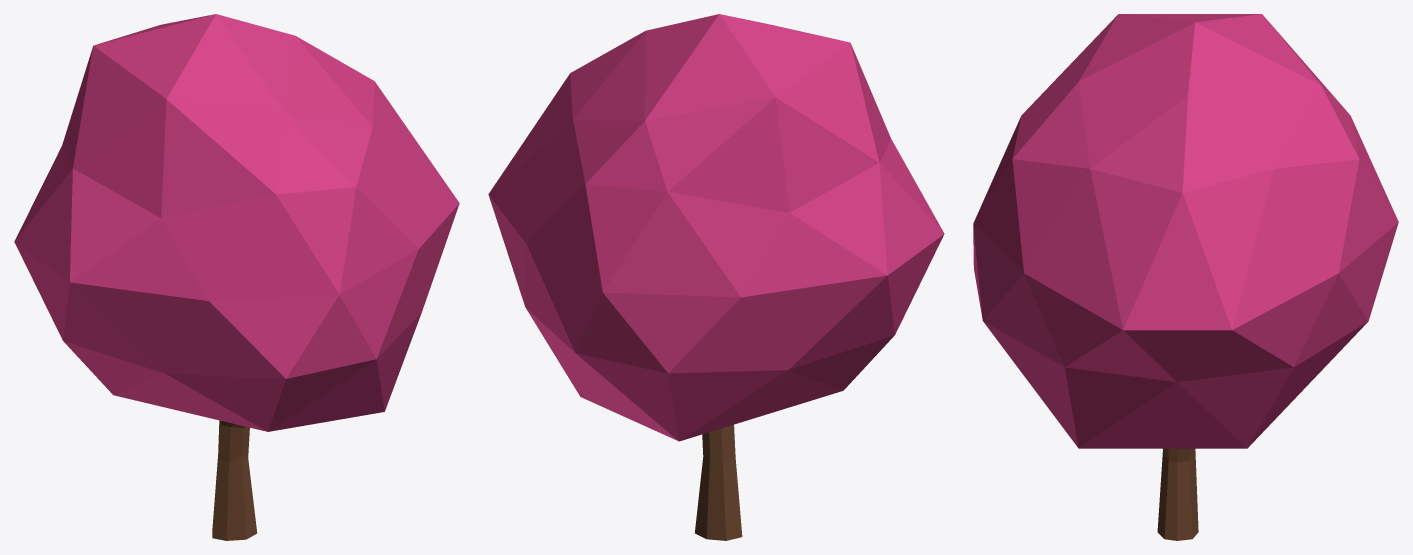
The model's file is Tree_58_Pink.fbx.
The picture shows the model from 3 angles, left to right: view 1: azimuth 30°, elevation 25°; view 2: azimuth 150°, elevation 25°; view 3: azimuth 270°, elevation 25°; orthographic projection. The views are drawn at different scales.
Visible parts, largest first — view 1: Tree_58_Pink_Part_1, Tree_58_Pink_Part_2; view 2: Tree_58_Pink_Part_1, Tree_58_Pink_Part_2; view 3: Tree_58_Pink_Part_1, Tree_58_Pink_Part_2.
Boxes of the visible parts, x1,y1,x2,y2 form: Tree_58_Pink_Part_1: [14, 14, 459, 431]; Tree_58_Pink_Part_2: [212, 420, 257, 540]; Tree_58_Pink_Part_1: [488, 14, 944, 441]; Tree_58_Pink_Part_2: [695, 424, 742, 540]; Tree_58_Pink_Part_1: [973, 14, 1398, 448]; Tree_58_Pink_Part_2: [1157, 448, 1198, 540].
Size of the model in its own units: 627 by 791 by 604.
